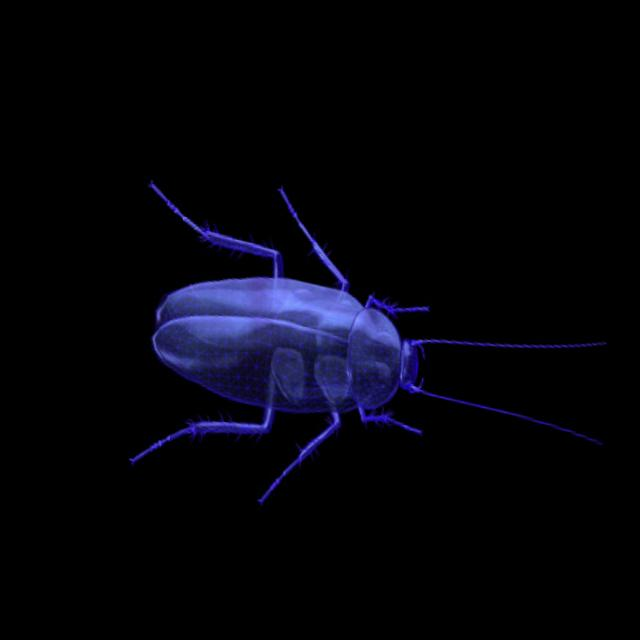Cockroach: (70, 137, 631, 594)
